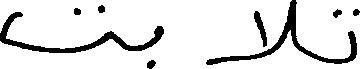X: (0, 0, 110, 57), (208, 0, 293, 68), (335, 4, 359, 68), (148, 21, 160, 68)
